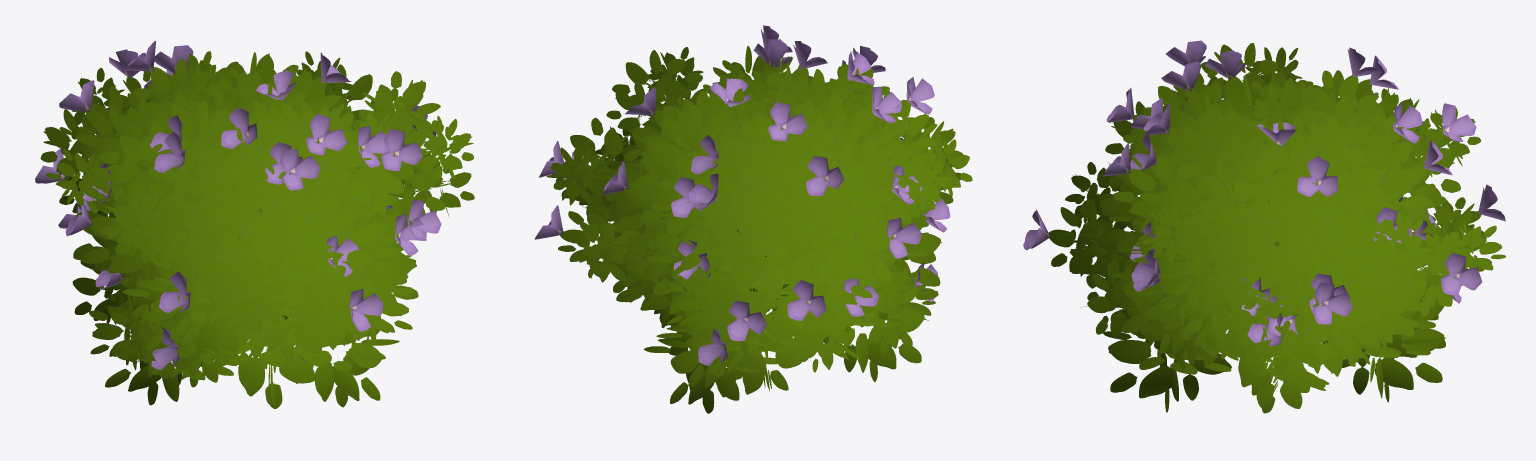
Rendered from Bush_Common_Flowers.glb.
3 views of the same model, side by side, from view 1: azimuth 30°, elevation 25°; view 2: azimuth 150°, elevation 25°; view 3: azimuth 270°, elevation 25° (orthographic). The views are drawn at different scales.
Parts seen in each view (by area): view 1: Bush_Common_Flowers; view 2: Bush_Common_Flowers; view 3: Bush_Common_Flowers.
Boxes of the visible parts, left/top/right/bottom form: Bush_Common_Flowers: left=35, top=40, right=474, bottom=408; Bush_Common_Flowers: left=534, top=25, right=972, bottom=413; Bush_Common_Flowers: left=1023, top=40, right=1505, bottom=413.
Size of the model in its own units: 1.91 by 1.58 by 1.97.
Materials: 2 (2 with a texture image).
